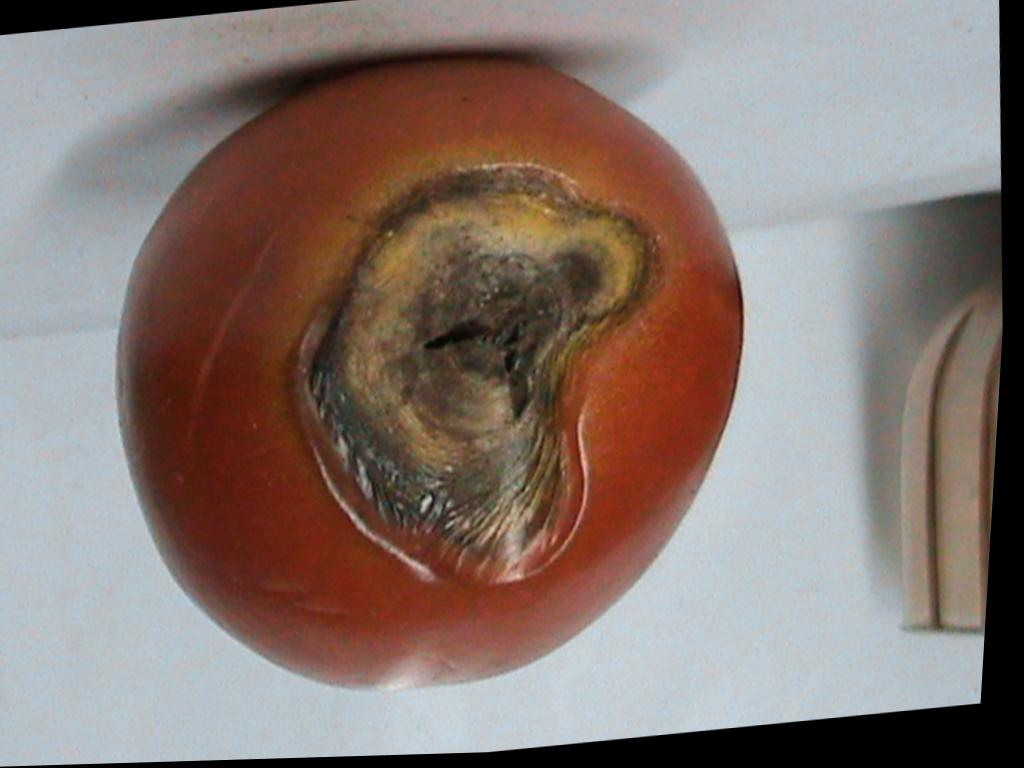rot_mold_decay: (308, 173, 647, 582)
surface_damage: (187, 235, 274, 440)
tomato: (118, 61, 741, 685)
